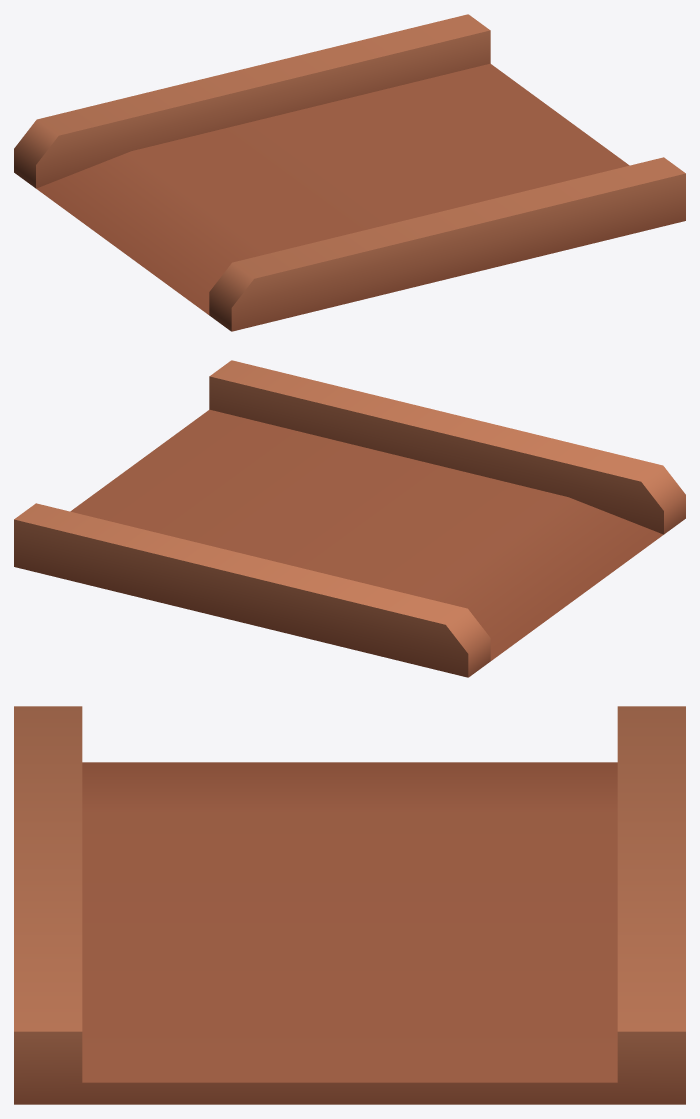
Rendered from bridge-draw.glb.
The picture shows the model from 3 angles, top to bottom: view 1: azimuth 30°, elevation 25°; view 2: azimuth 150°, elevation 25°; view 3: azimuth 270°, elevation 25°; orthographic projection. The views are drawn at different scales.
Parts seen in each view (by area): view 1: bridge-draw; view 2: bridge-draw; view 3: bridge-draw.
Part boxes in pixels (bbox=[...]): bridge-draw: bbox=[14, 14, 685, 331]; bridge-draw: bbox=[14, 360, 685, 677]; bridge-draw: bbox=[14, 706, 685, 1104].
Bounding box in the file's own units: 1 × 0.1 × 0.8311.
